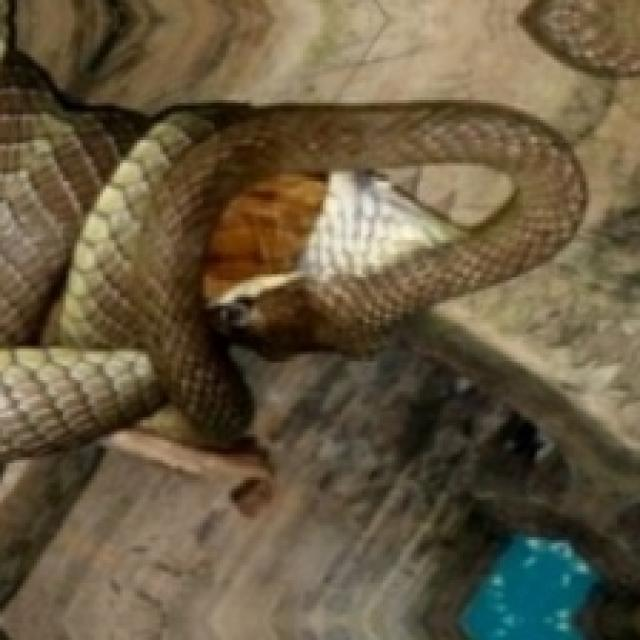paradise tree snake: (54, 49, 611, 429), (0, 331, 566, 637), (360, 60, 517, 106)
